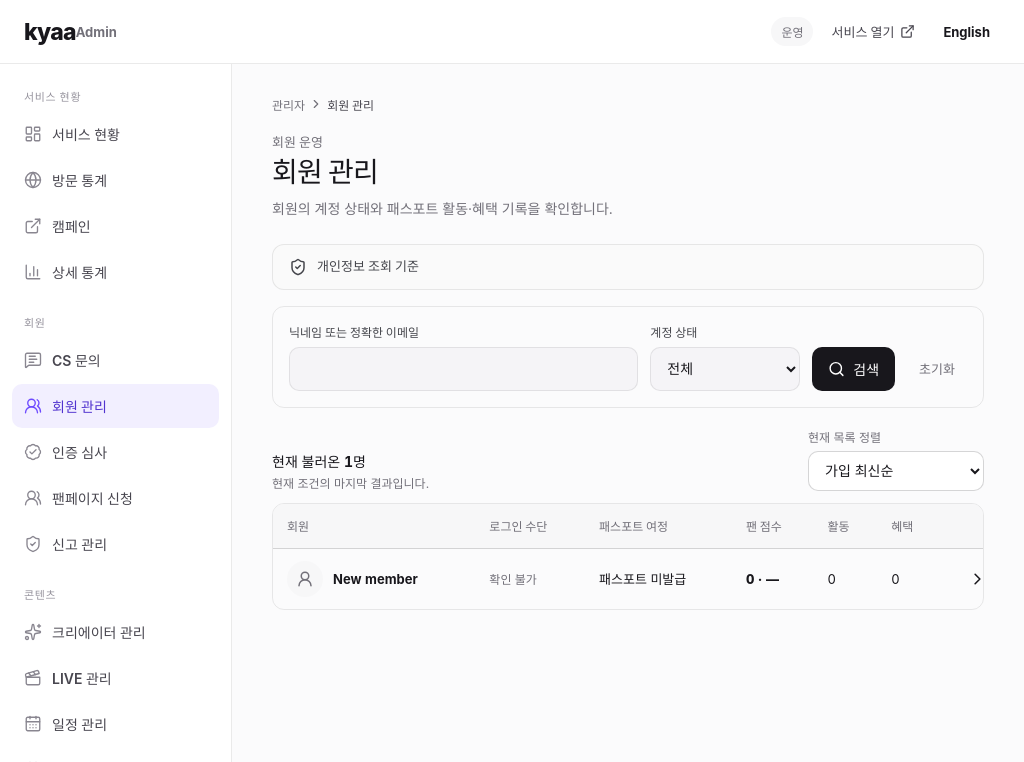
Test: FanOperations › shows members without passports and their empty detail ()
Expected: the text "패스포트 미발급" is shown, [599,571,686,587]
Step 1. Click the button named "회원 상세: New member" → click(977, 578), box [955,556,999,600]
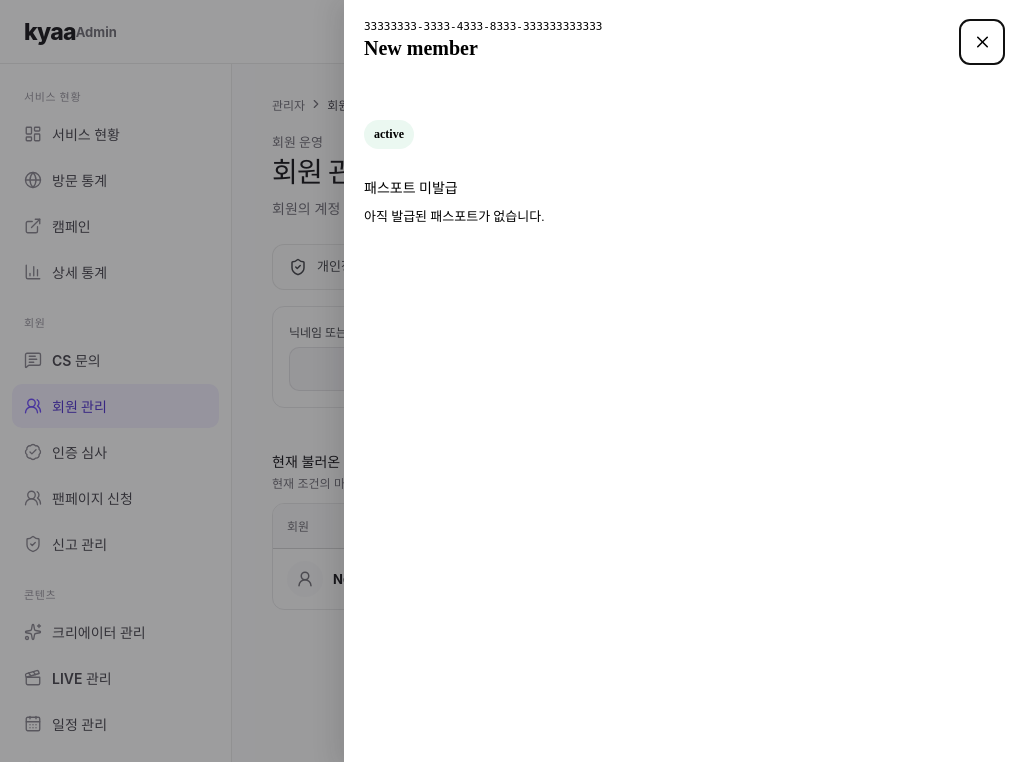
Expected: the text "아직 발급된 패스포트가 없습니다." is shown, [364,209,544,224]
